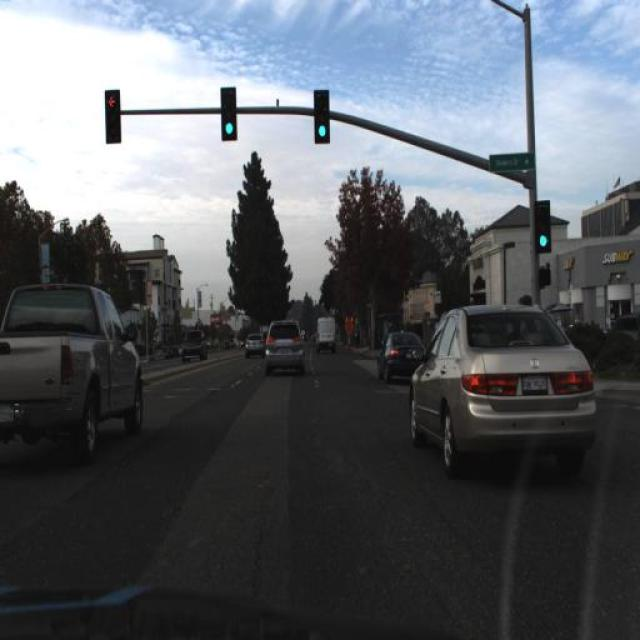car: (405, 297, 601, 485), (0, 268, 144, 470), (374, 323, 430, 389), (257, 312, 309, 380), (311, 308, 344, 359), (242, 320, 267, 368), (178, 325, 208, 364), (242, 324, 264, 364), (316, 314, 340, 348)
trafficLight-Green: (218, 81, 241, 148), (310, 82, 332, 147), (102, 84, 123, 148), (535, 200, 551, 252)
trafficLight-GreenLeft: (531, 196, 553, 256)
